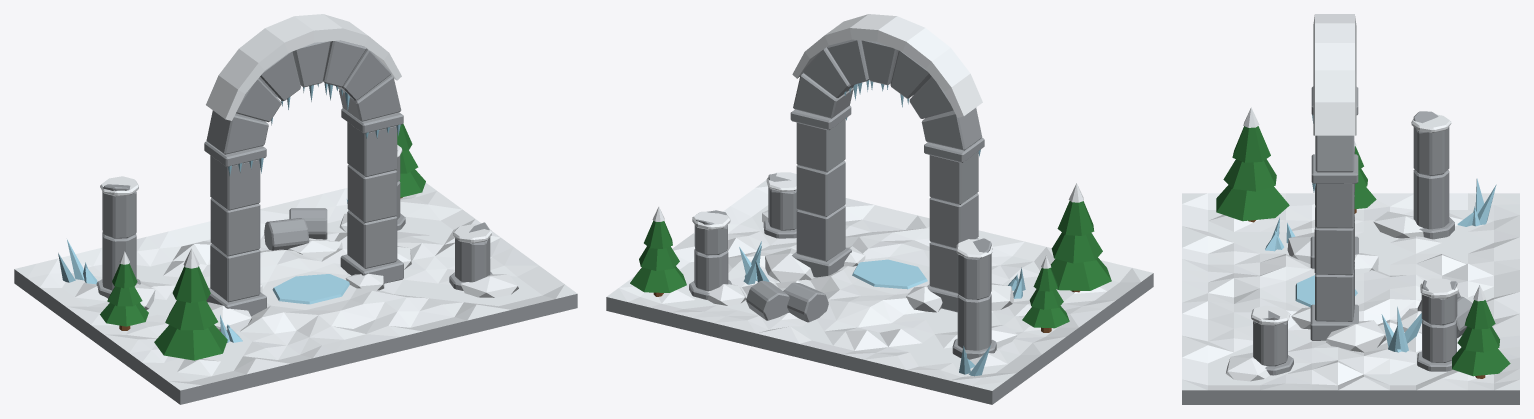
File: frozen-stone-ruins.glb
The picture shows the model from 3 angles, left to right: view 1: azimuth 30°, elevation 25°; view 2: azimuth 150°, elevation 25°; view 3: azimuth 270°, elevation 25°; orthographic projection. The views are drawn at different scales.
Visible parts, largest first — view 1: SnowGround, Arch_SnowCap, Arch_Pillar_R0, Arch_Pillar_R1, Arch_Pillar_L1, Arch_Pillar_L0, Arch_Pillar_R2, Arch_Pillar_L2, Arch_Stone_6, Pine_A_Tier0, Ice_Puddle, Pillar_Tall_Drum1 (+24 smaller); view 2: SnowGround, Arch_SnowCap, Arch_Pillar_R1, Arch_Pillar_R0, Arch_Pillar_L1, Arch_Pillar_L2, Arch_Pillar_R2, Arch_Stone_6, Pillar_Tall_Drum0, Ice_Puddle, Pillar_Tall_Drum1, Pine_A_Tier0 (+27 smaller); view 3: SnowGround, Arch_SnowCap, Pillar_Tall_Drum0, Pine_A_Tier0, Arch_Pillar_R1, Arch_Pillar_R0, Arch_Pillar_R2, Pillar_Tall_Drum1, Pillar_Short_Drum0, Arch_Stone_0, Drift_2, Pillar_Mid_Drum0 (+21 smaller).
Part boxes in pixels (box(x1,y1,x2,y2)): SnowGround: box(14, 183, 577, 404); Arch_SnowCap: box(206, 14, 401, 120); Arch_Pillar_R0: box(347, 210, 397, 268); Arch_Pillar_R1: box(347, 164, 397, 222); Arch_Pillar_L1: box(210, 198, 260, 256); Arch_Pillar_L0: box(210, 244, 260, 302); Arch_Pillar_R2: box(347, 122, 397, 176); Arch_Pillar_L2: box(210, 155, 260, 210); Arch_Stone_6: box(206, 110, 268, 154); Pine_A_Tier0: box(154, 324, 227, 360); Ice_Puddle: box(272, 274, 349, 304); Pillar_Tall_Drum1: box(102, 184, 136, 238); SnowGround: box(606, 180, 1153, 404); Arch_SnowCap: box(792, 14, 982, 117); Arch_Pillar_R1: box(796, 160, 845, 216); Arch_Pillar_R0: box(796, 205, 845, 261); Arch_Pillar_L1: box(929, 193, 978, 248); Arch_Pillar_L2: box(929, 151, 978, 204); Arch_Pillar_R2: box(796, 119, 845, 172); Arch_Stone_6: box(921, 107, 982, 150); Pillar_Tall_Drum0: box(957, 293, 991, 350); Ice_Puddle: box(852, 259, 927, 289); Pillar_Tall_Drum1: box(957, 238, 991, 299); Pine_A_Tier0: box(1051, 257, 1111, 290); SnowGround: box(1182, 193, 1519, 404); Arch_SnowCap: box(1313, 14, 1356, 135); Pillar_Tall_Drum0: box(1413, 169, 1449, 229); Pine_A_Tier0: box(1216, 185, 1289, 221); Arch_Pillar_R1: box(1314, 215, 1354, 275); Arch_Pillar_R0: box(1315, 262, 1354, 321); Arch_Pillar_R2: box(1315, 183, 1354, 228); Pillar_Tall_Drum1: box(1413, 111, 1449, 175); Pillar_Short_Drum0: box(1253, 310, 1287, 366); Arch_Stone_0: box(1315, 135, 1354, 172); Drift_2: box(1326, 320, 1386, 352); Pillar_Mid_Drum0: box(1422, 318, 1456, 362).
Bounding box in the file's own units: 29 × 19.4 × 21.
